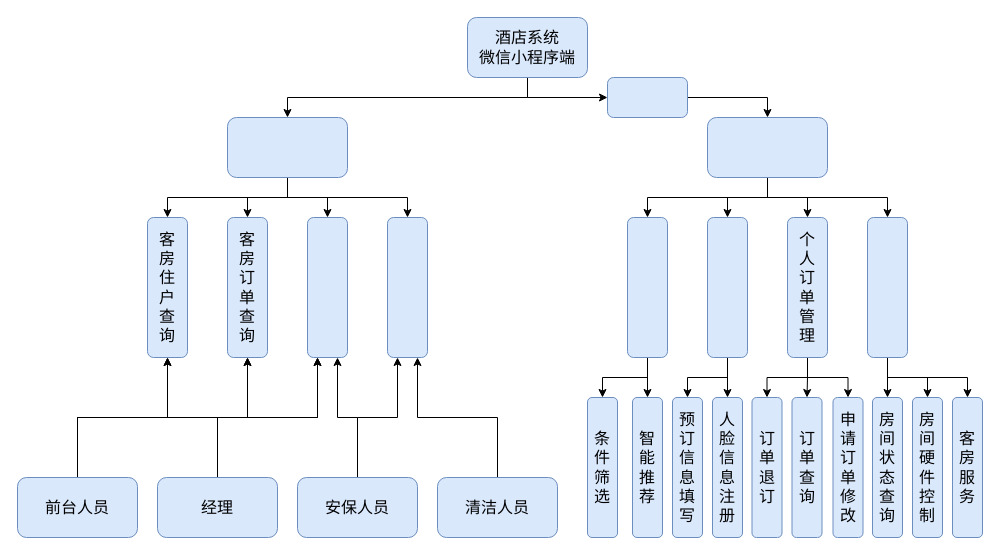
Some shapes in this 1000 by 555 pixel diagram are drawn without their labels. The centre of each missing label's shape, as x and y in pixels:
"个 人 房 间 管 理" goes at (887,287).
"客 房 信 息 查 询" goes at (327,287).
"客 房 开 门" goes at (407,287).
"客 房 查 询" goes at (647,287).
"客 房 预 定" goes at (727,287).
"客户" goes at (767,147).
"工作人员" goes at (287,147).
"欢迎界面" goes at (647,97).
